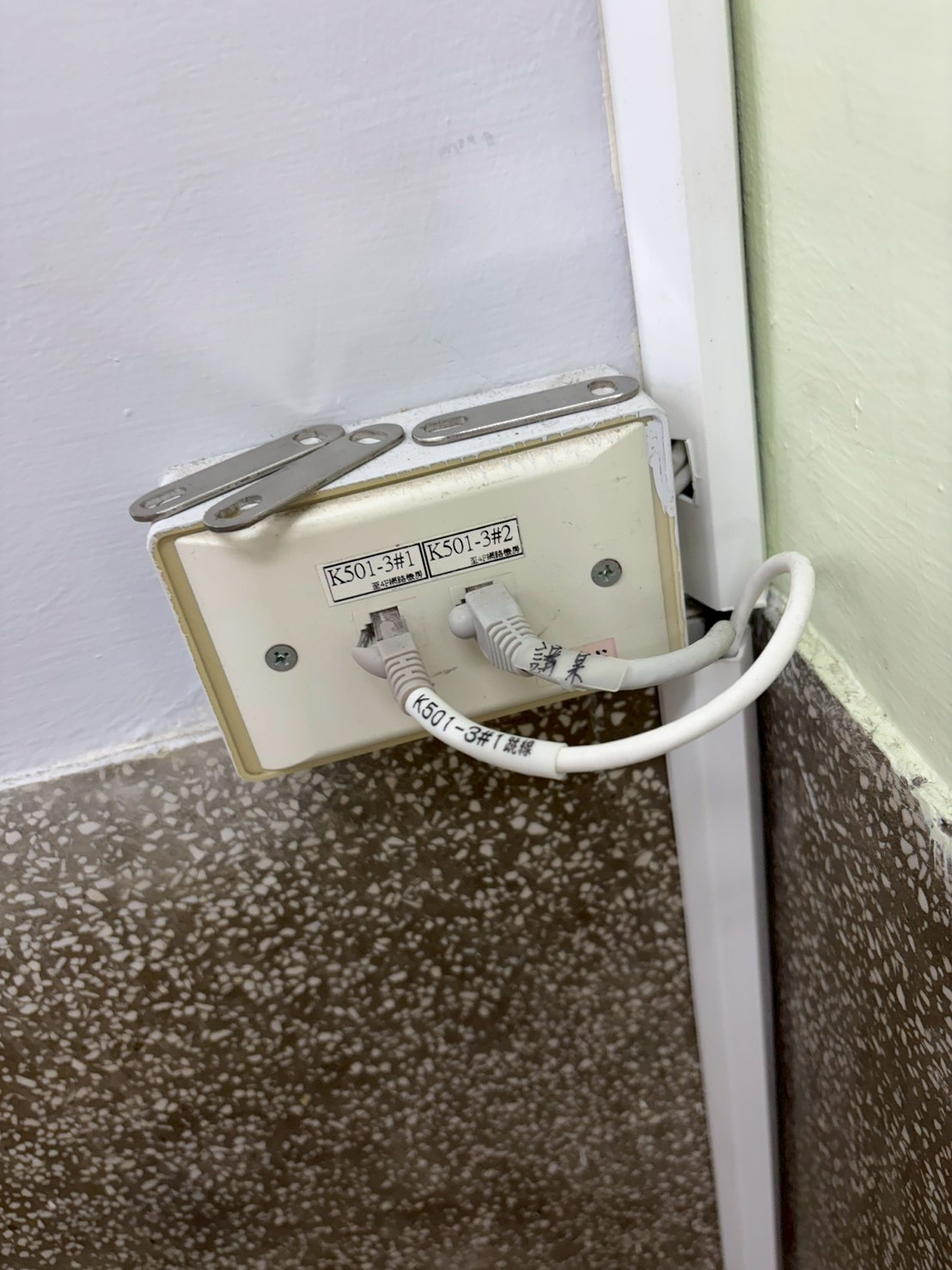Fe: (414, 354, 650, 445), (109, 487, 376, 548), (362, 386, 427, 580)
